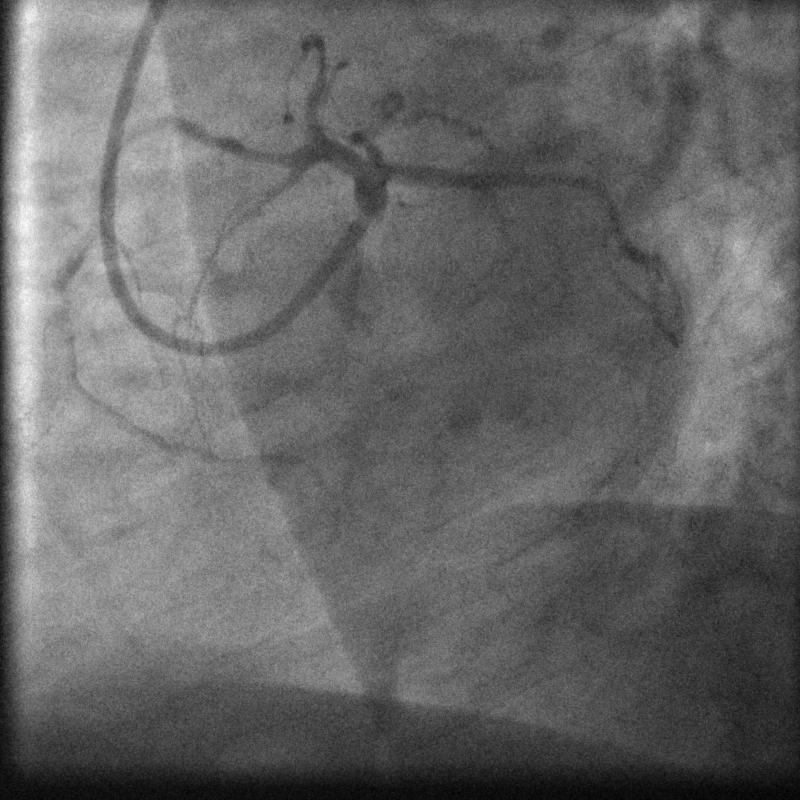Stenosis: (232, 131, 285, 171)
